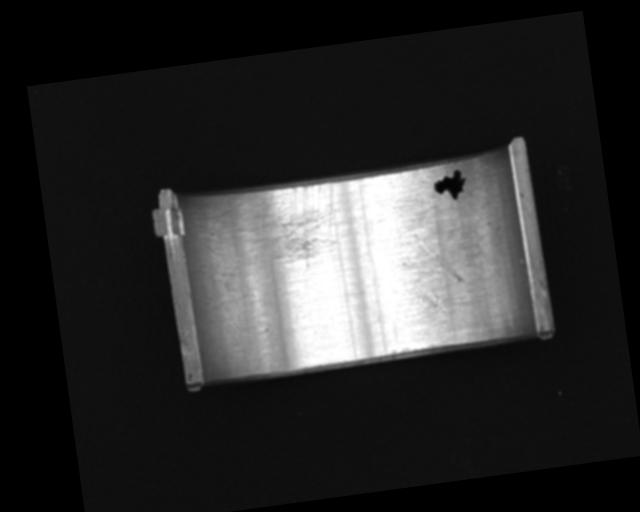blot: (431, 168, 470, 204)
bruise: (421, 289, 447, 317)
nick: (414, 227, 463, 287)
scratch: (212, 180, 345, 280)
